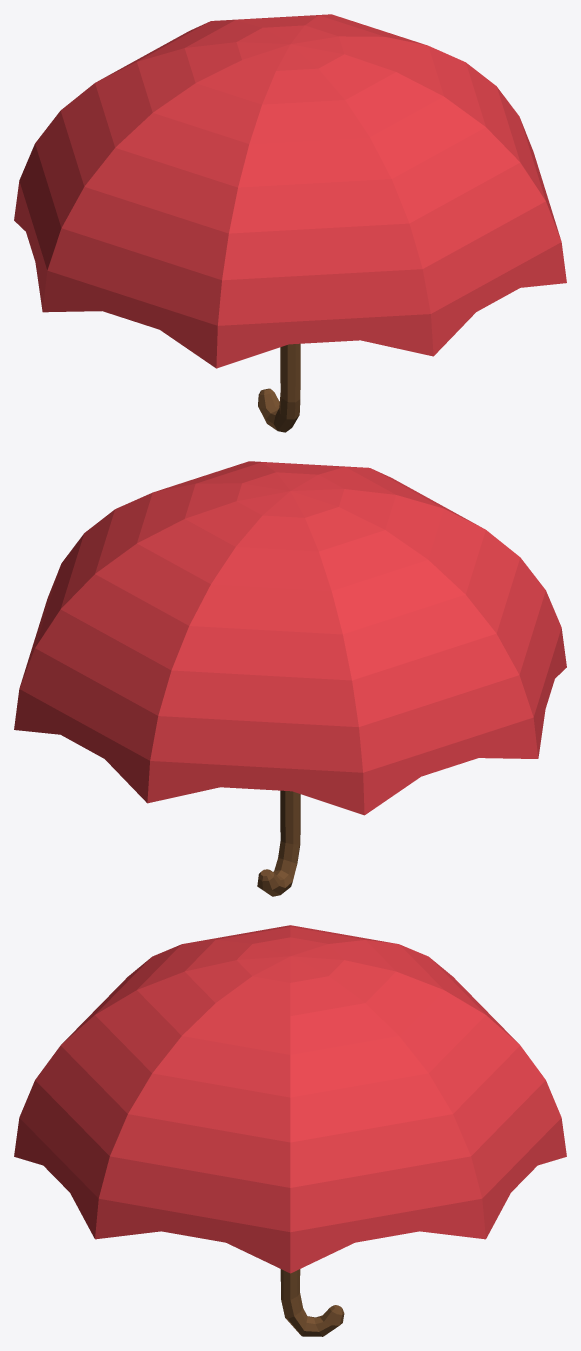
Rendered from Umbrella - Low Poly.fbx.
3 views of the same model, one above another, from view 1: azimuth 30°, elevation 25°; view 2: azimuth 150°, elevation 25°; view 3: azimuth 270°, elevation 25° (orthographic). The views are drawn at different scales.
Parts seen in each view (by area): view 1: Umbrella; view 2: Umbrella; view 3: Umbrella.
Boxes of the visible parts, box(x1,y1,x2,y2) form: Umbrella: box(14, 14, 566, 432); Umbrella: box(14, 461, 566, 896); Umbrella: box(14, 925, 566, 1336).
Size of the model in its own units: 125 by 94.67 by 125.
